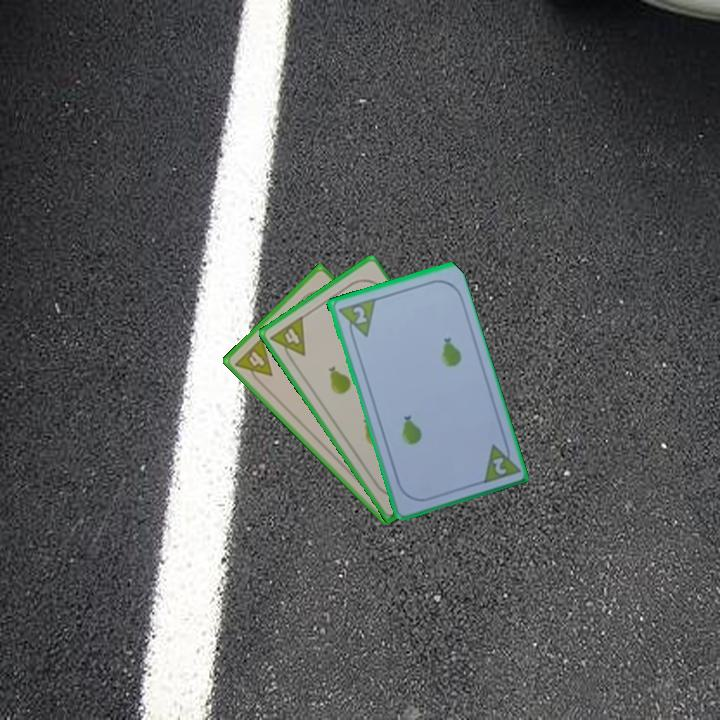2p: (334, 294, 378, 343), (489, 453, 509, 478)
4p: (231, 334, 275, 388), (266, 312, 308, 366)
